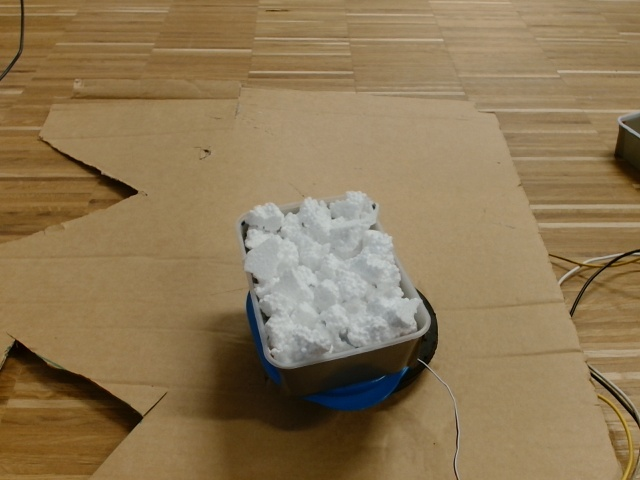Small_full: (233, 186, 433, 373)
